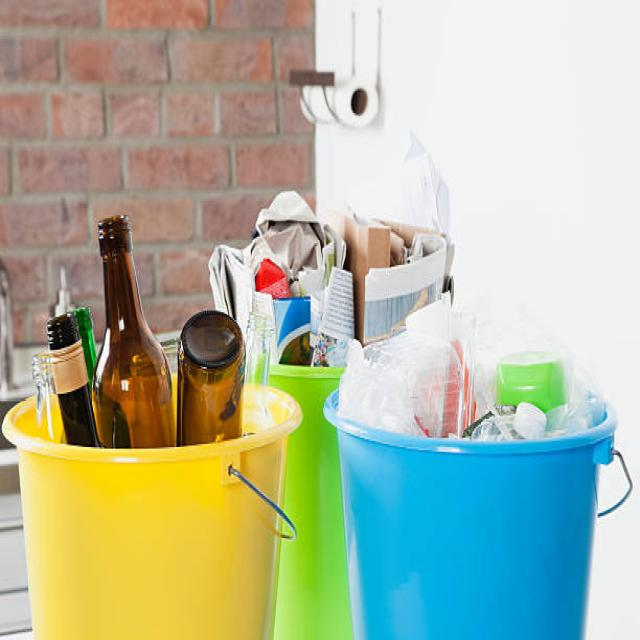glass: (37, 226, 253, 427), (237, 209, 446, 356)
plastic: (403, 311, 579, 447)
